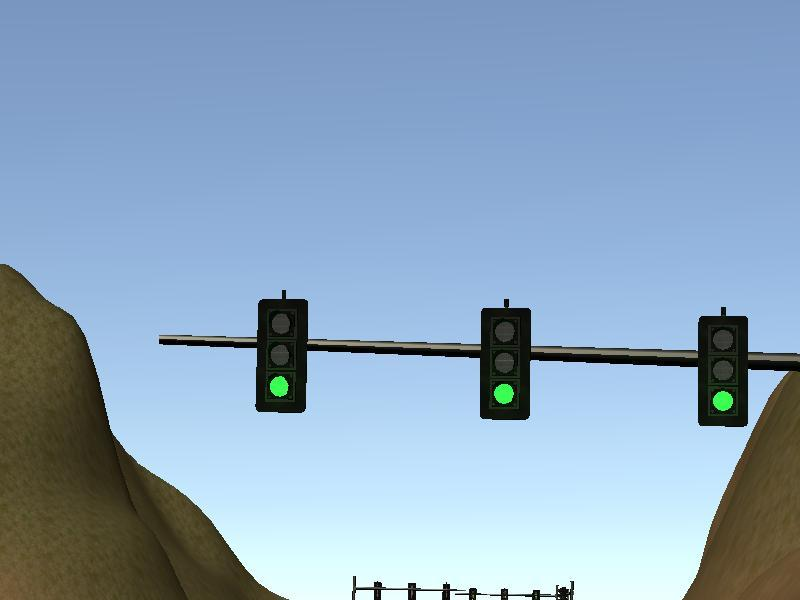Green: (256, 299, 309, 413), (478, 307, 531, 421), (696, 315, 749, 429)
